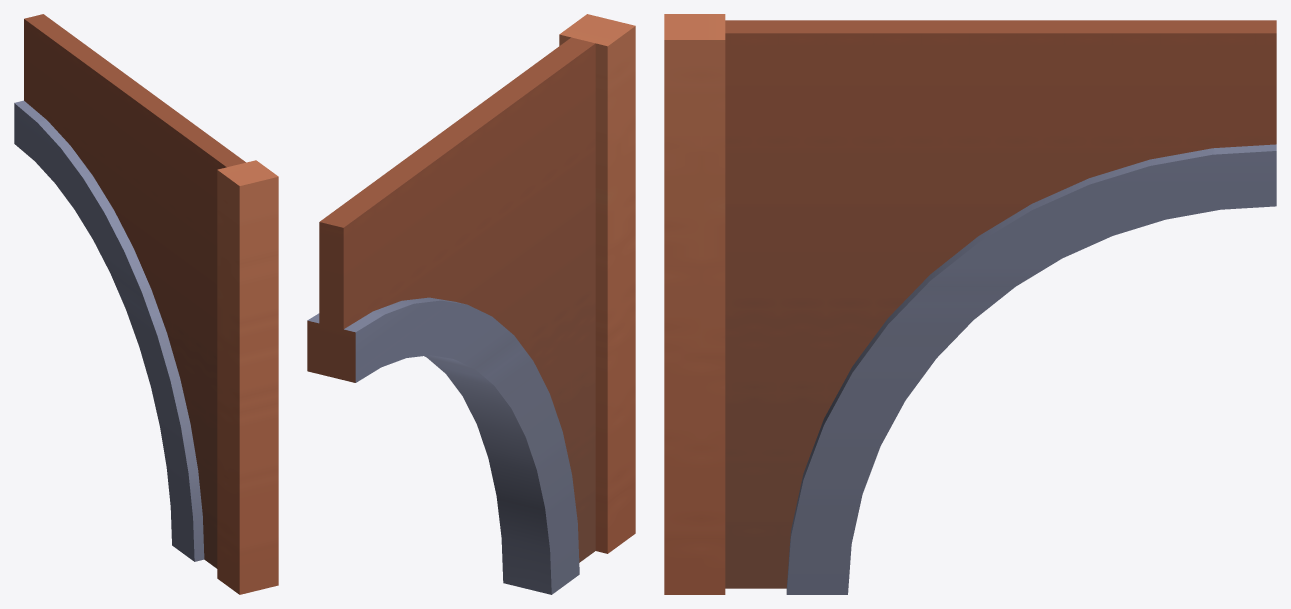
File: wallWoodArchTop.fbx
3 views of the same model, side by side, from view 1: azimuth 30°, elevation 25°; view 2: azimuth 150°, elevation 25°; view 3: azimuth 270°, elevation 25° (orthographic). The views are drawn at different scales.
Parts seen in each view (by area): view 1: wallWoodArchTop; view 2: wallWoodArchTop; view 3: wallWoodArchTop.
Part boxes in pixels (x1,y1,x2,y2): wallWoodArchTop: [14, 14, 278, 594]; wallWoodArchTop: [307, 14, 635, 594]; wallWoodArchTop: [664, 14, 1276, 594].
Bounding box in the file's own units: 0.1 × 1 × 1.
